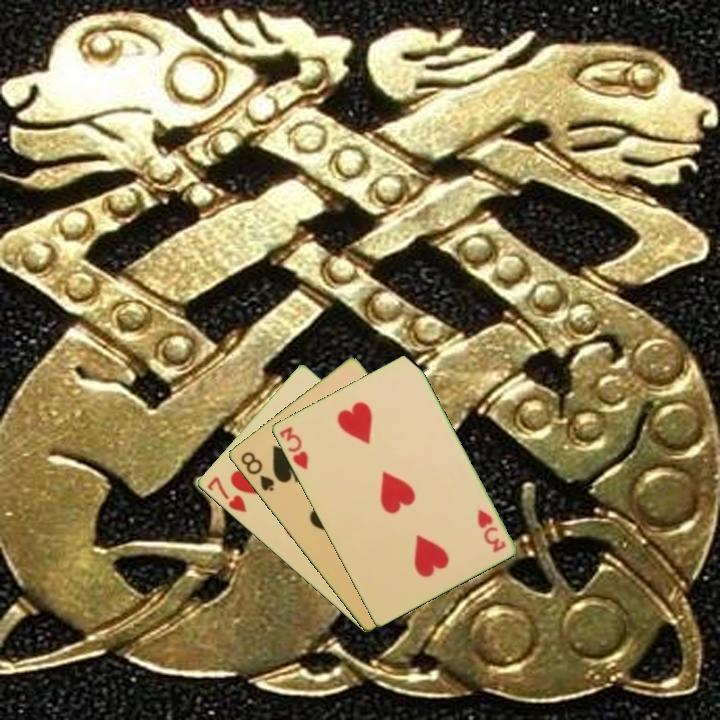3h: (275, 423, 311, 473), (473, 505, 508, 555)
7h: (203, 473, 249, 515)
8s: (237, 448, 277, 495)
